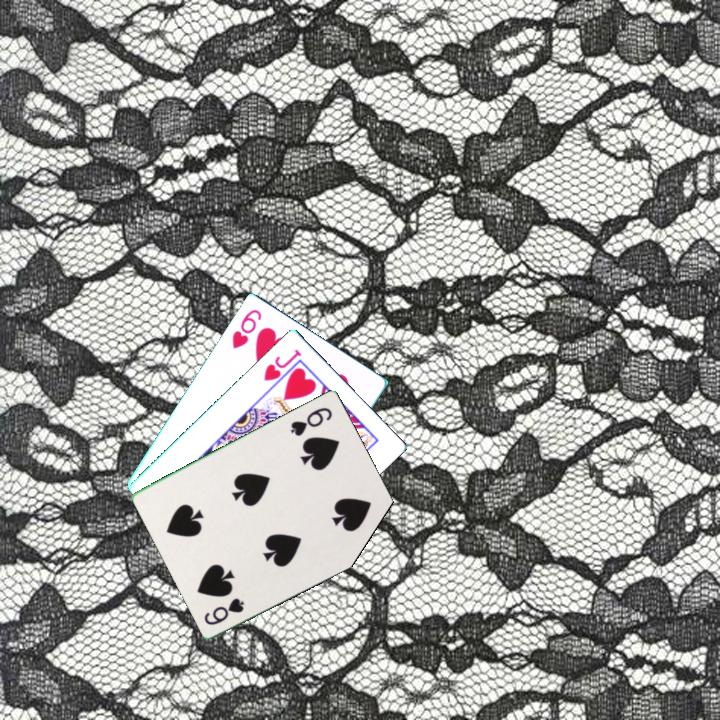6h: (228, 305, 265, 352)
6s: (287, 403, 335, 439), (200, 594, 248, 628)
Jh: (260, 345, 305, 383)
